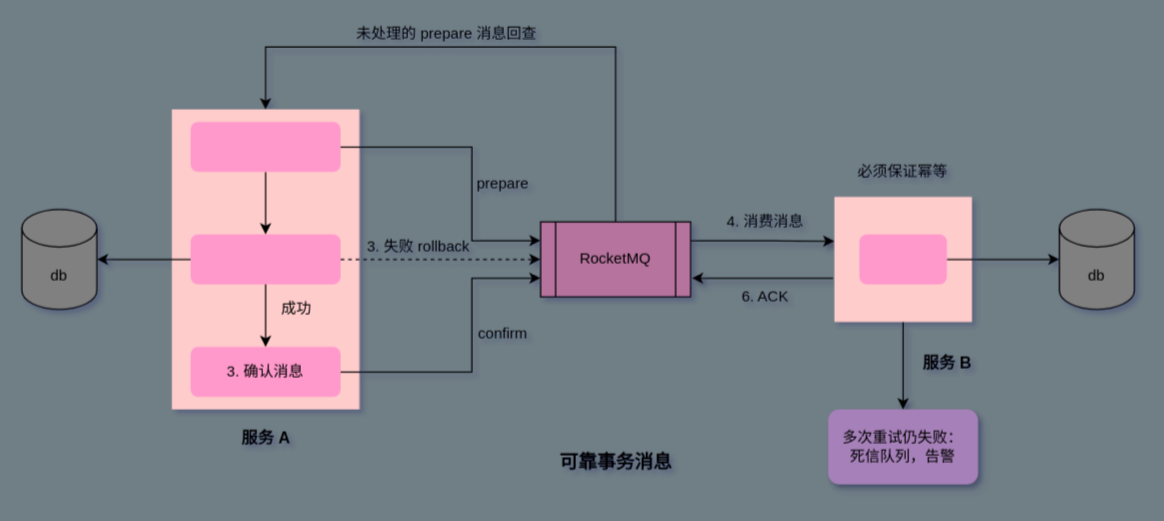
This 1164x521 diagram has some shape labels left out. Here are the shapes that lost their labels. From the top down, the centre of each, then its label:
At point 265,146: "1. 预发消息".
At point 265,259: "2. 执行本地事务".
At point 902,259: "5. 执行本地事务".
